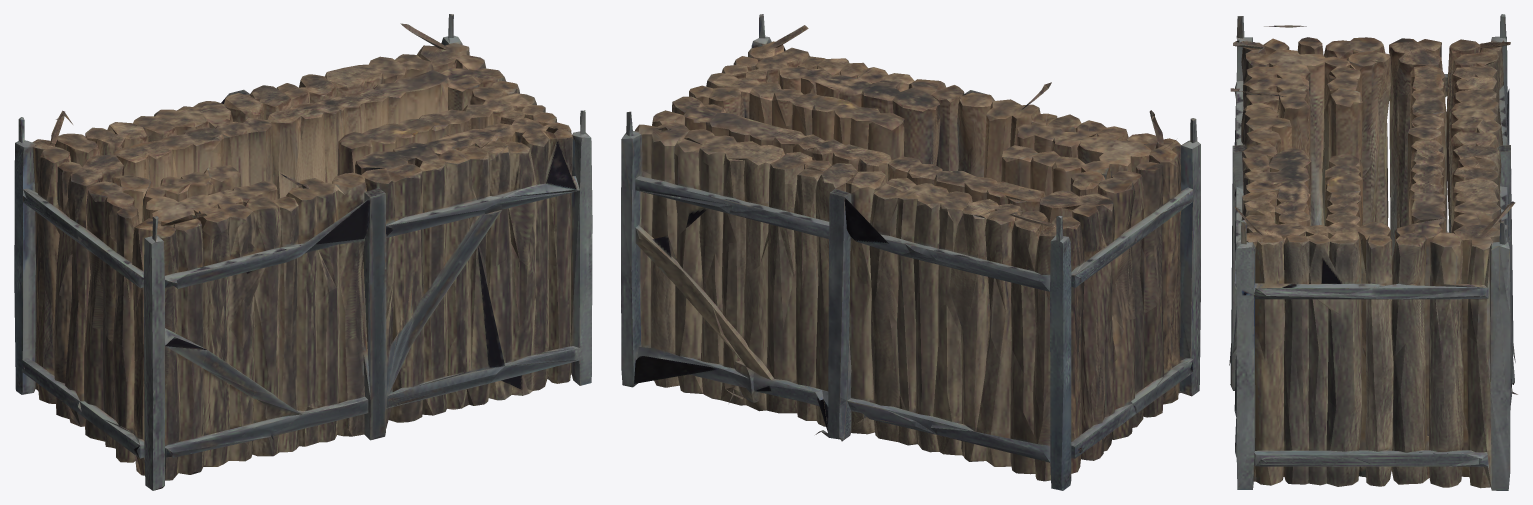
3 views of the same model, side by side, from view 1: azimuth 30°, elevation 25°; view 2: azimuth 150°, elevation 25°; view 3: azimuth 270°, elevation 25° (orthographic).
Size of the model in its own units: 1.9 by 1.1 by 1.07.
1 material, 1 textured.
